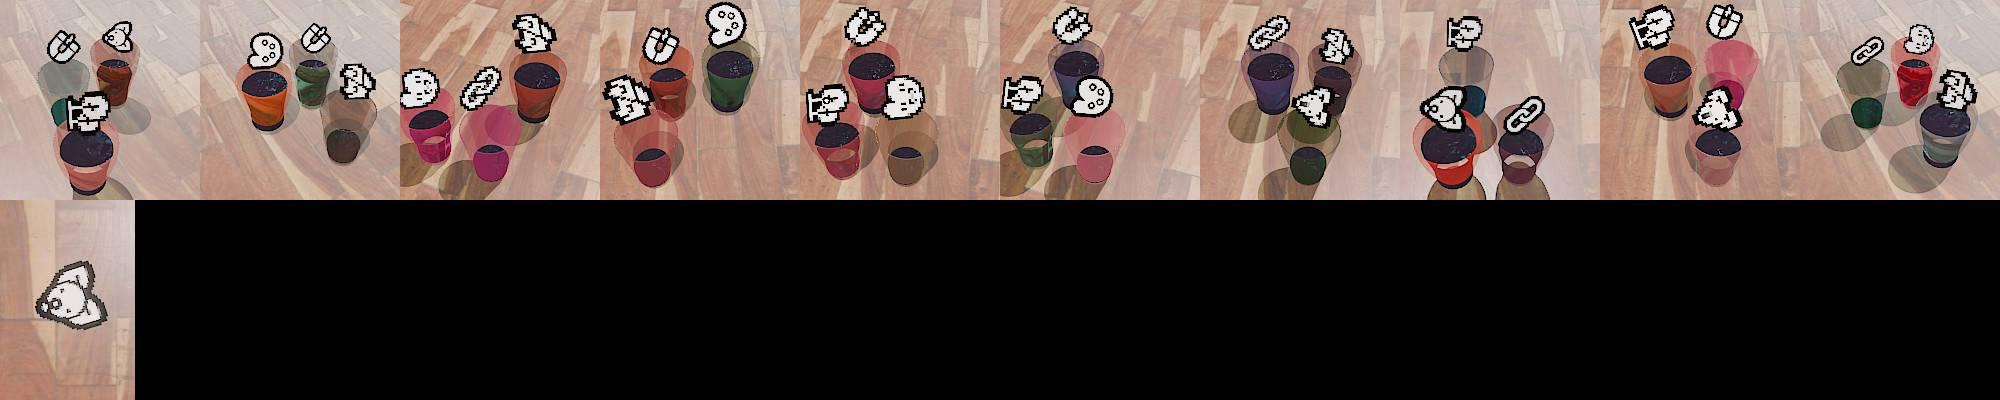icon: (36, 259, 111, 332), (601, 74, 654, 125), (1497, 94, 1547, 144), (1629, 5, 1676, 51), (880, 74, 926, 120), (1421, 85, 1467, 130), (459, 65, 504, 111), (1694, 87, 1740, 129), (705, 3, 747, 48), (804, 84, 849, 126), (65, 92, 111, 134), (1000, 75, 1045, 117), (1051, 6, 1094, 48), (843, 6, 886, 47), (1291, 85, 1334, 126), (1071, 76, 1115, 117), (399, 66, 440, 107), (1247, 14, 1290, 54), (1444, 15, 1483, 55), (513, 13, 556, 48), (1937, 69, 1977, 107), (642, 25, 680, 65), (1705, 3, 1744, 41), (338, 61, 375, 99), (1319, 27, 1355, 66), (246, 32, 283, 69), (47, 29, 82, 65), (1852, 34, 1886, 66), (102, 20, 134, 54), (1904, 23, 1935, 55), (301, 23, 332, 55)
